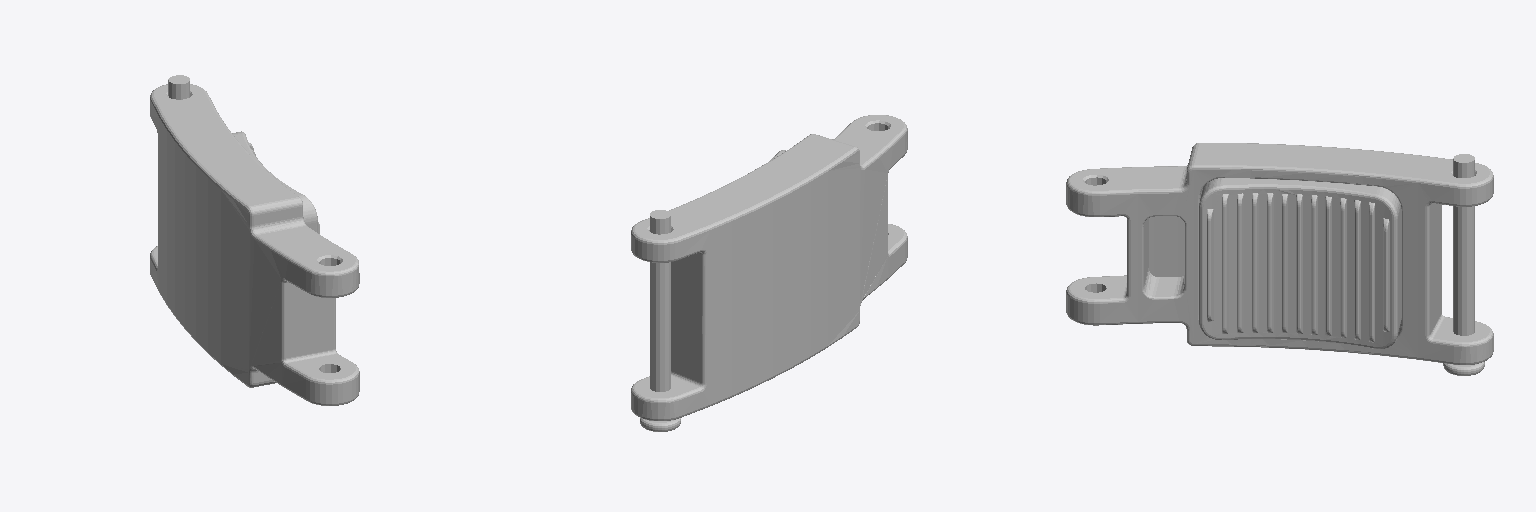
The model's file is l_b_bar_3.obj.
3 renders of one model, left to right at view 1: azimuth 30°, elevation 25°; view 2: azimuth 150°, elevation 25°; view 3: azimuth 270°, elevation 25°, orthographic.
Parts seen in each view (by area): view 1: obj1; view 2: obj1; view 3: obj1.
Boxes of the visible parts, box(x1,y1,x2,y2) form: obj1: box(150, 75, 359, 405); obj1: box(631, 115, 907, 431); obj1: box(1066, 143, 1493, 375).
Size of the model in its own units: 0.0154 by 0.0313 by 0.0577.